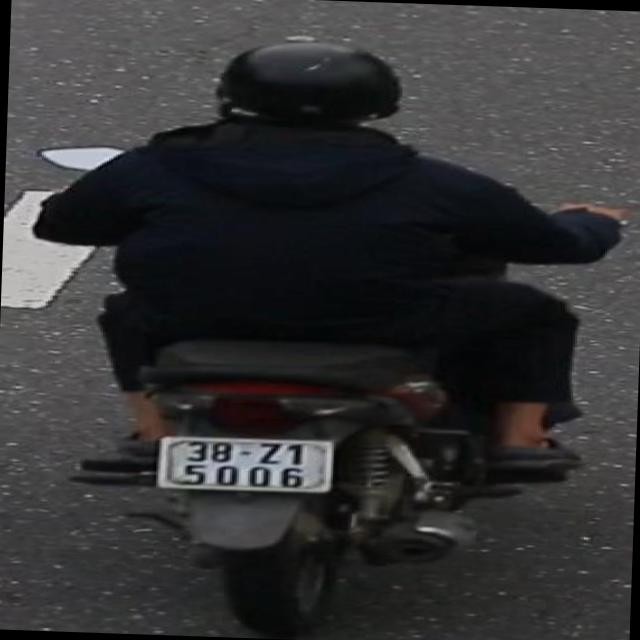LP: (152, 428, 346, 503)
helmet: (205, 32, 412, 139)
